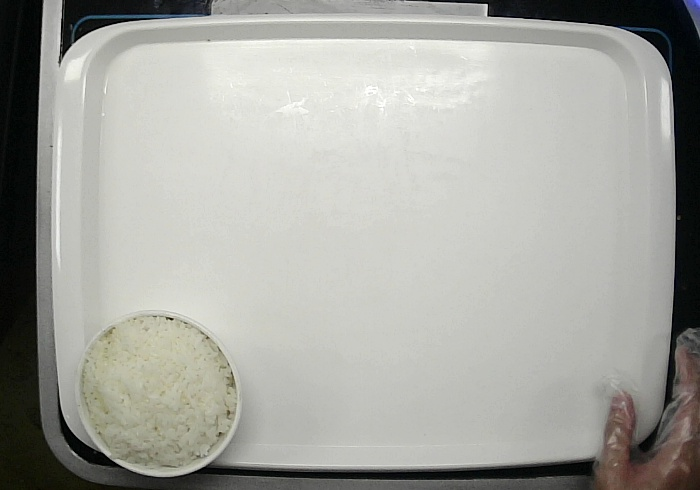HZYJPL-Fan_Wan: (75, 310, 243, 478)
